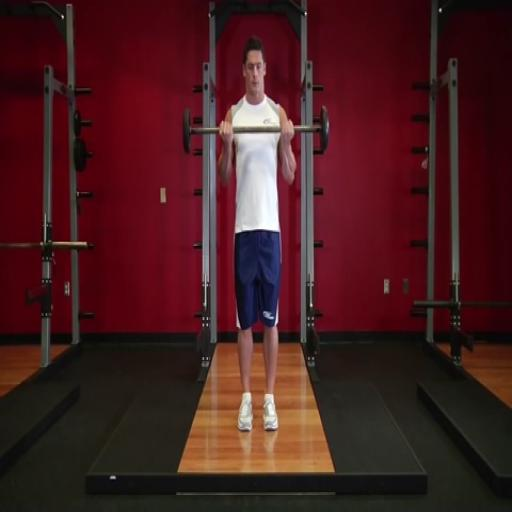exercise: (214, 36, 300, 435)
